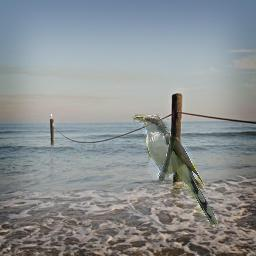Cuckoo: (133, 114, 218, 226)
